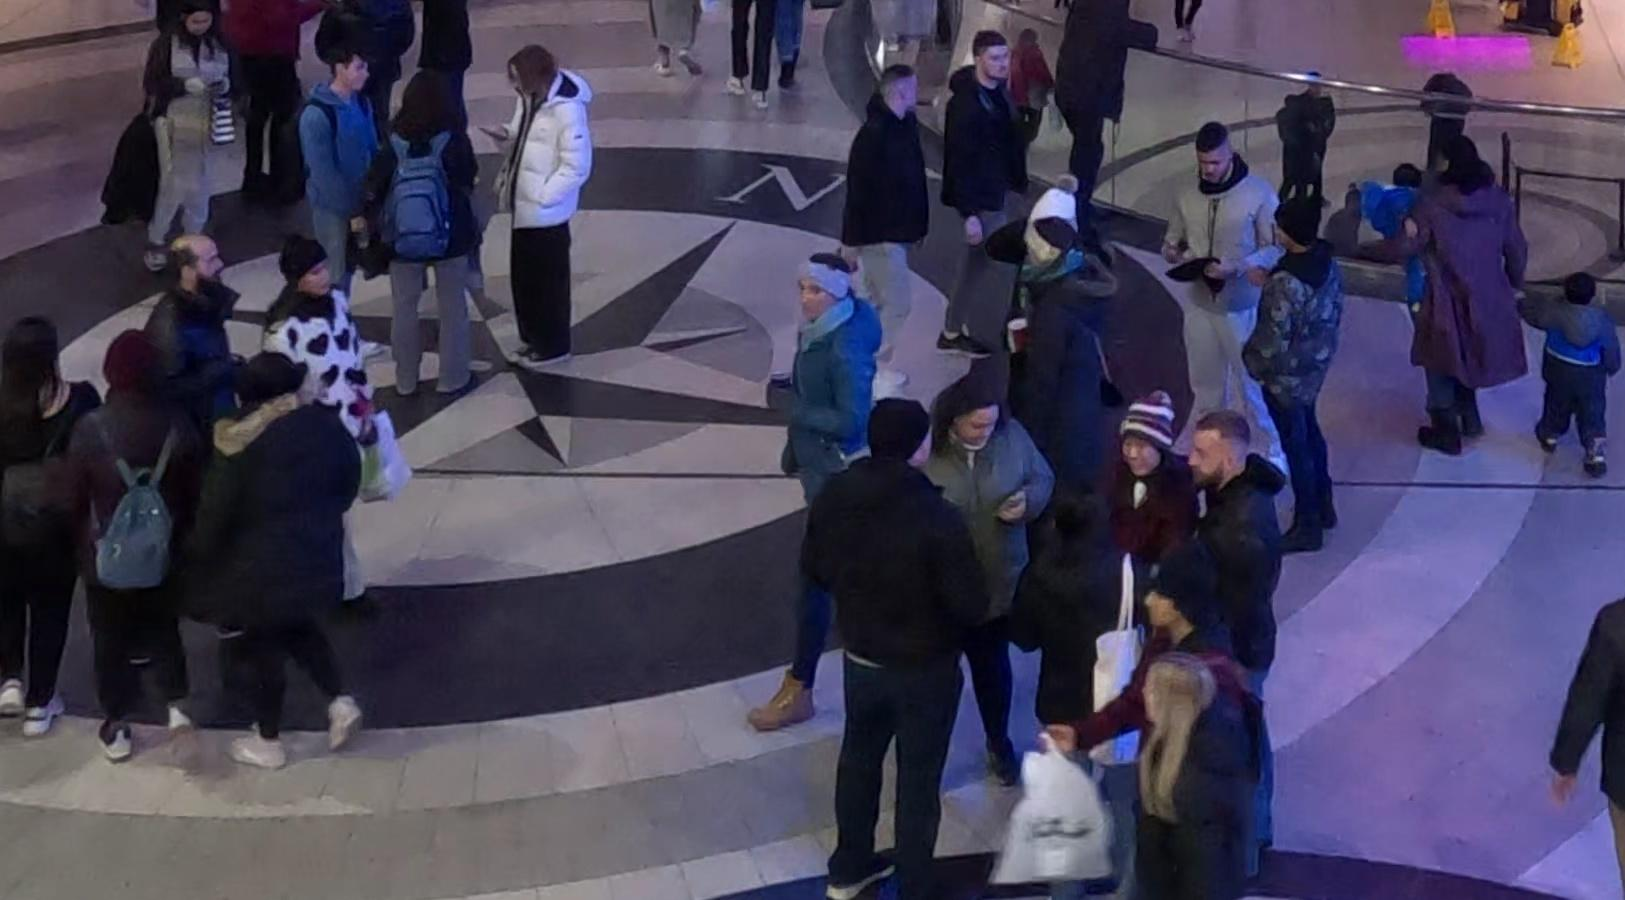person: (784, 393, 992, 900), (173, 343, 403, 778), (43, 315, 217, 773), (765, 249, 898, 730), (933, 379, 1056, 786), (5, 306, 107, 758), (1240, 189, 1363, 554), (371, 64, 498, 412), (481, 44, 606, 393), (1126, 646, 1289, 900), (143, 3, 264, 301), (1183, 401, 1290, 694), (289, 39, 390, 306), (843, 55, 939, 266), (1109, 379, 1206, 546)
